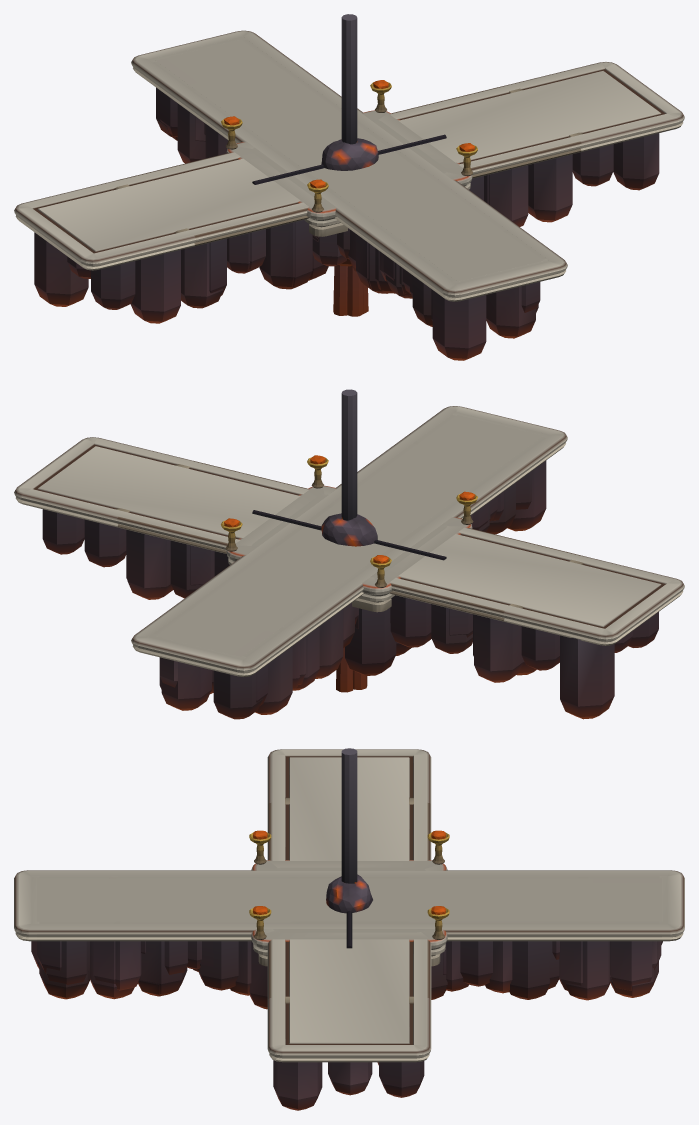
File: volcano-1-DBU6eQc6.glb
The picture shows the model from 3 angles, top to bottom: view 1: azimuth 30°, elevation 25°; view 2: azimuth 150°, elevation 25°; view 3: azimuth 270°, elevation 25°; orthographic projection. The views are drawn at different scales.
Parts seen in each view (by area): view 1: block_44x2x10#1, block_9x2x41#1, pad_12x2x12#0, block_30x2x10_column#1, block_9x2x40_grate#0, block_8x2x40#1, press_4x6x9#0, block_8x2x30_grate#0, support_1_round#0, boulder_4x3#0, block_8x2x40_grate#1, block_10x2x10#0 (+1 smaller); view 2: block_44x2x10#1, block_9x2x41#1, pad_12x2x12#0, block_30x2x10_column#1, block_9x2x40_grate#0, block_8x2x40_grate#1, press_4x6x9#0, block_8x2x30_grate#0, boulder_4x3#0, block_8x2x40#1, block_10x2x10#0, support_1_round#0 (+1 smaller); view 3: block_9x2x41#1, block_44x2x10#1, block_9x2x40_grate#0, block_8x2x30_grate#0, pad_12x2x12#0, block_8x2x40#1, block_8x2x40_grate#1, press_4x6x9#0, boulder_4x3#0, block_10x2x10#0, block_30x2x10_column#1, block_8x2x8#1.
Boxes of the visible parts, x1,y1,x2,y2 form: block_44x2x10#1: (14,62,684,323); block_9x2x41#1: (131,30,567,360); pad_12x2x12#0: (221,80,477,280); block_30x2x10_column#1: (114,86,583,295); block_9x2x40_grate#0: (137,36,549,320); block_8x2x40#1: (153,39,545,338); press_4x6x9#0: (341,14,357,144); block_8x2x30_grate#0: (187,64,511,293); support_1_round#0: (333,265,368,316); boulder_4x3#0: (321,138,378,170); block_8x2x40_grate#1: (172,136,432,326); block_10x2x10#0: (251,119,447,201); block_44x2x10#1: (14,437,684,719); block_9x2x41#1: (131,406,567,719); pad_12x2x12#0: (221,455,477,675); block_30x2x10_column#1: (115,461,584,675); block_9x2x40_grate#0: (149,412,561,705); block_8x2x40_grate#1: (161,483,515,715); press_4x6x9#0: (341,389,357,520); block_8x2x30_grate#0: (187,440,511,631); boulder_4x3#0: (321,513,377,546); block_8x2x40#1: (153,415,545,689); block_10x2x10#0: (251,494,447,629); support_1_round#0: (336,647,367,692); block_9x2x41#1: (14,870,684,1000); block_44x2x10#1: (267,749,431,1110); block_9x2x40_grate#0: (31,876,667,1009); block_8x2x30_grate#0: (109,876,589,995); pad_12x2x12#0: (249,830,449,966); block_8x2x40#1: (39,876,659,999); block_8x2x40_grate#1: (140,941,658,997); press_4x6x9#0: (341,748,357,883); boulder_4x3#0: (326,874,372,913); block_10x2x10#0: (273,867,425,932); block_30x2x10_column#1: (268,797,430,1065); block_8x2x8#1: (289,876,409,923).
Size of the model in its own units: 44 by 20.4 by 41.
